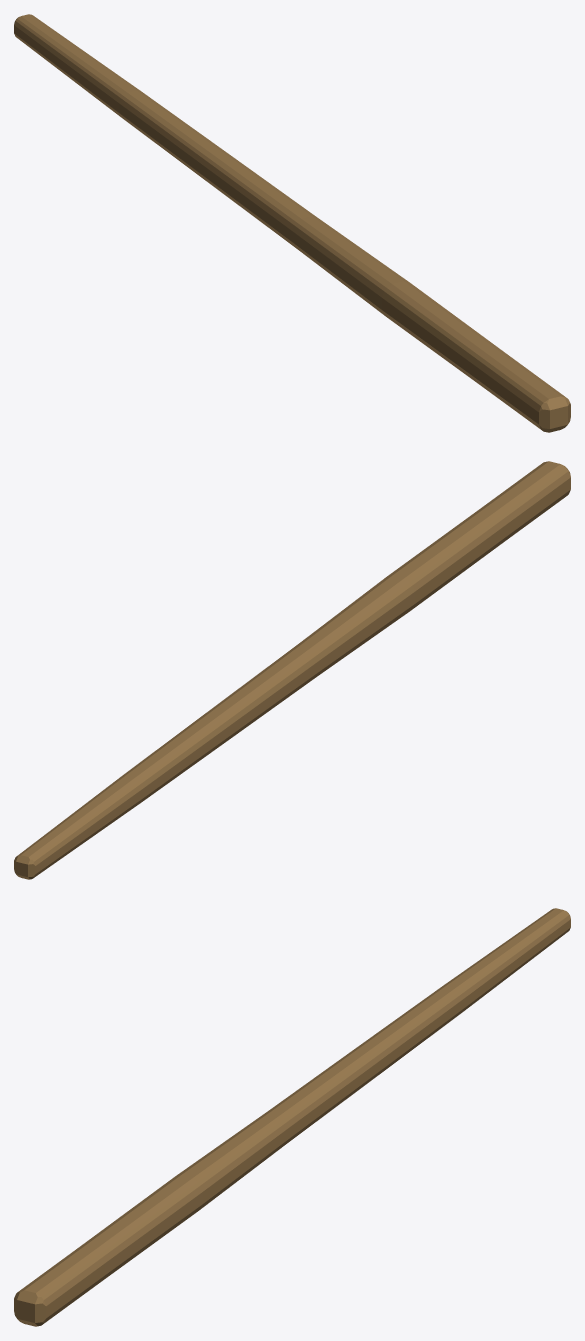
The model's file is pokey.fbx.
3 views of the same model, one above another, from view 1: azimuth 30°, elevation 25°; view 2: azimuth 150°, elevation 25°; view 3: azimuth 330°, elevation 25° (orthographic).
Parts seen in each view (by area): view 1: Cube; view 2: Cube; view 3: Cube.
Boxes of the visible parts, x1,y1,x2,y2 form: Cube: (14, 14, 570, 432); Cube: (14, 461, 570, 879); Cube: (14, 908, 570, 1326).
Size of the model in its own units: 33.63 by 33.63 by 956.
